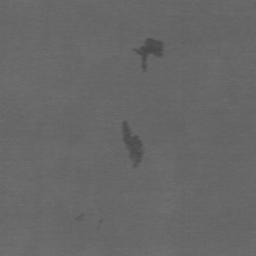Iron scale compression: (121, 121, 144, 170), (132, 38, 164, 68), (95, 218, 105, 230), (75, 213, 85, 221)
